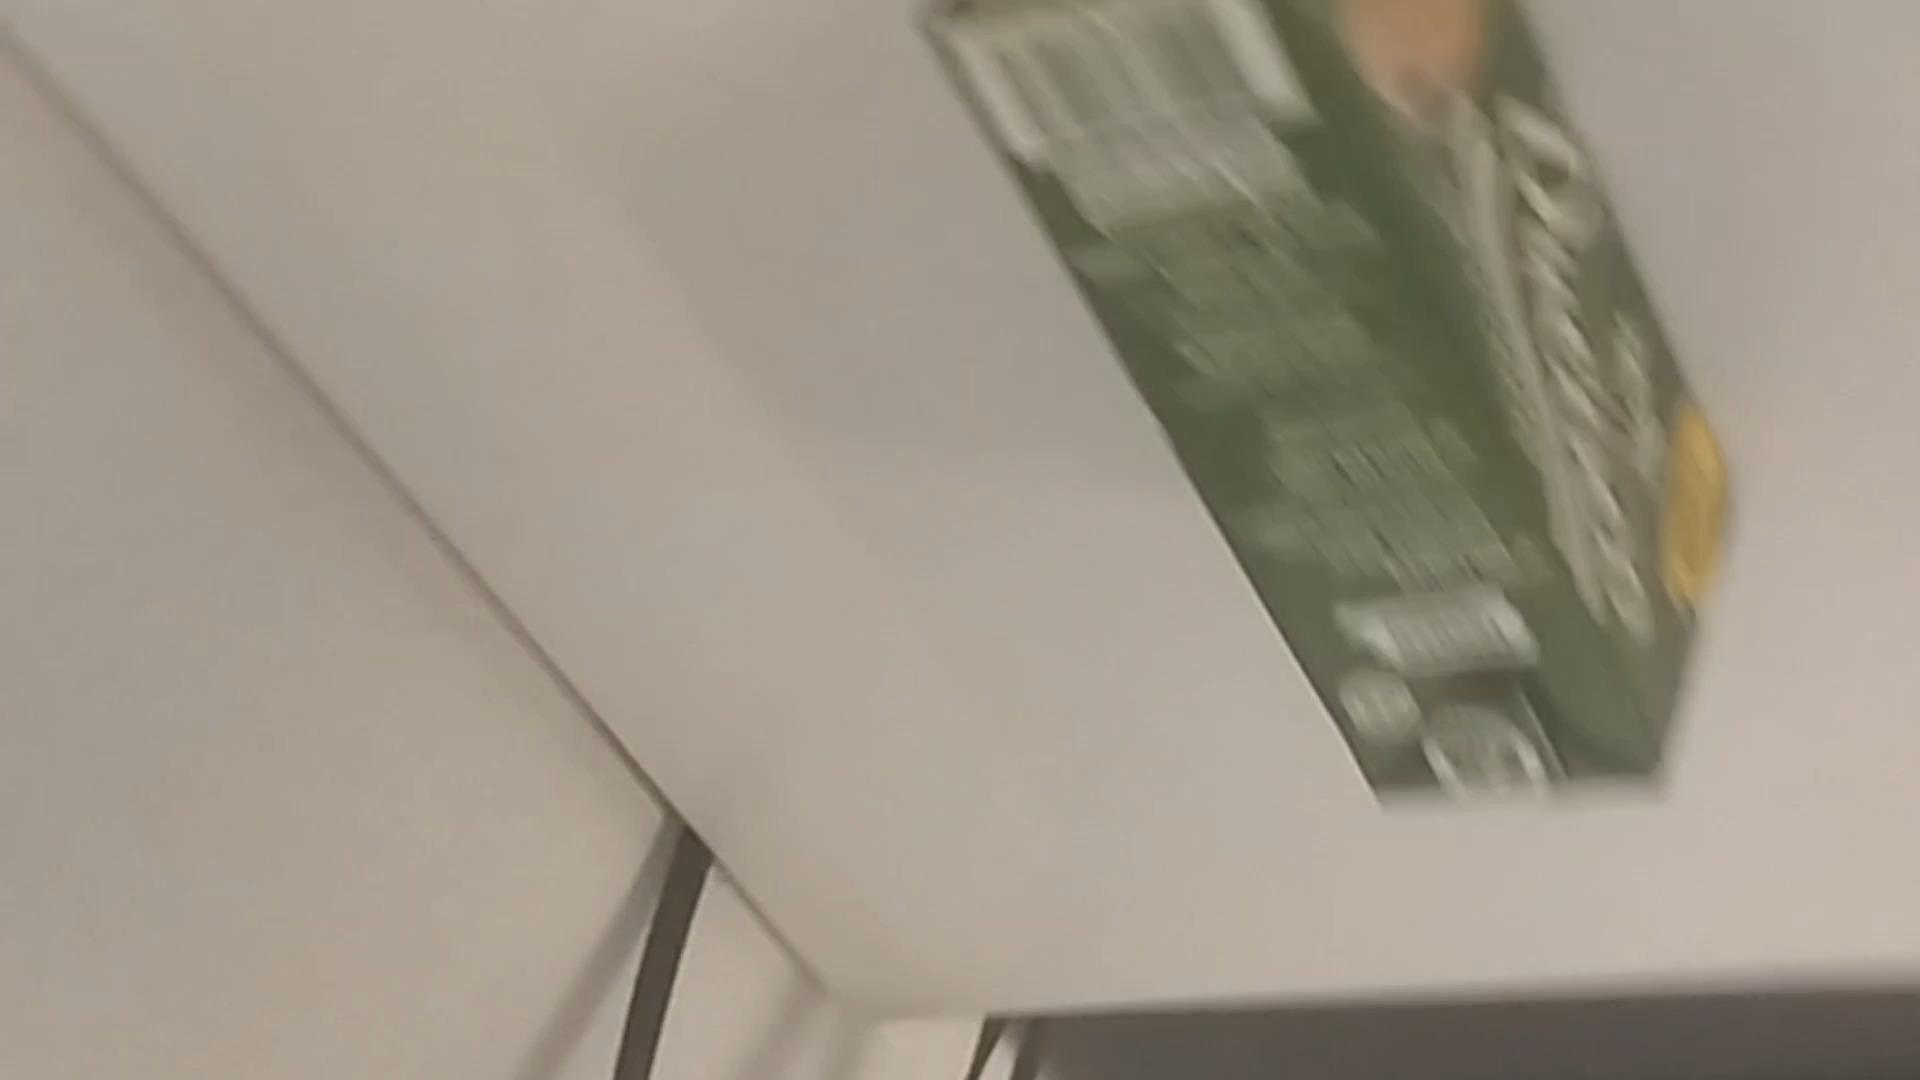coco: (920, 0, 1750, 798)
